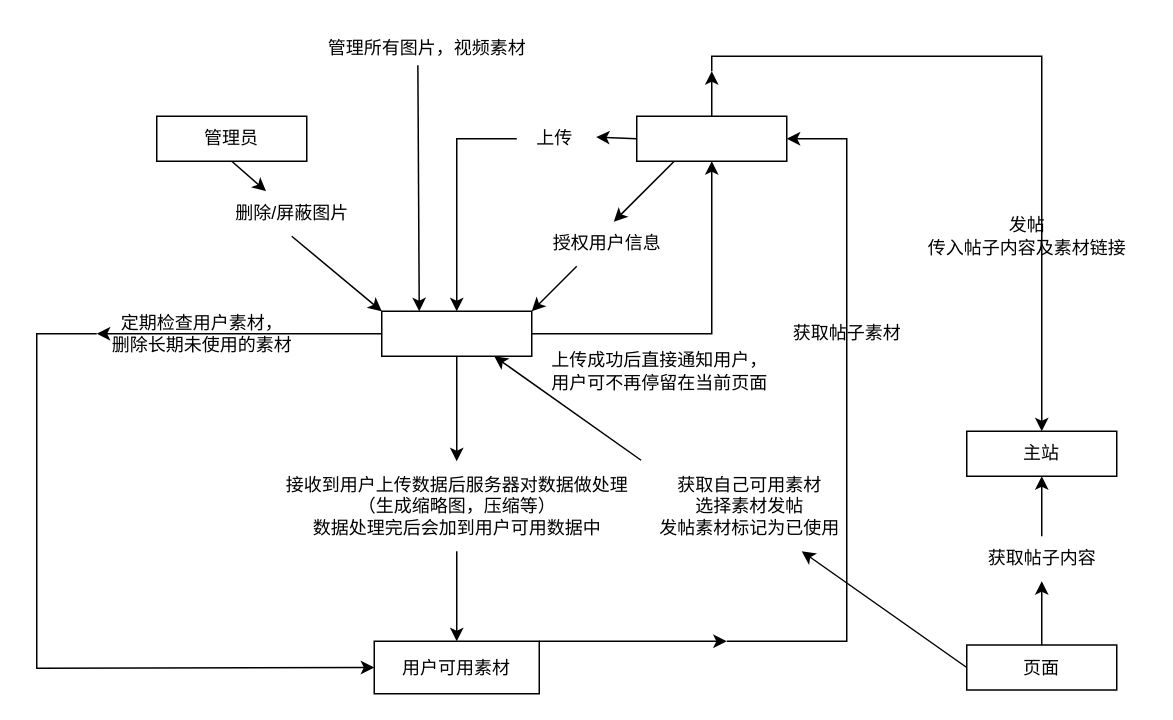
This 1173x720 diagram has some shape labels left out. Each missing label, with the centre of its shape:
上传服务器: point (456, 333)
用户: point (711, 138)
